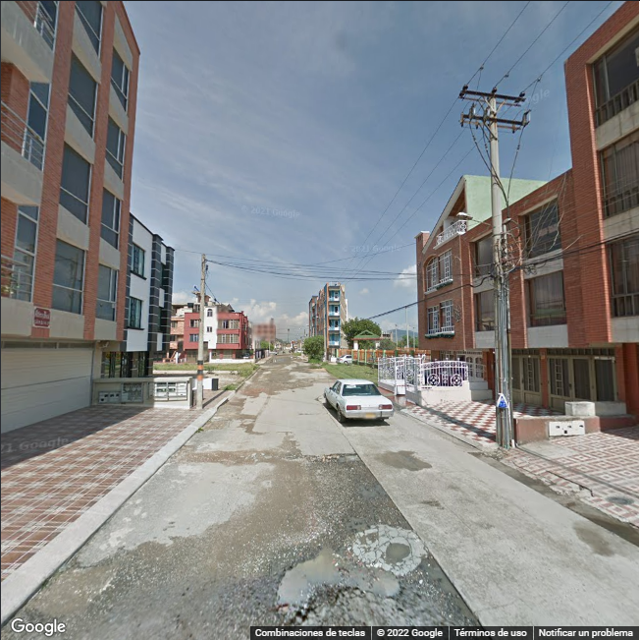D40: (273, 547, 404, 615)
